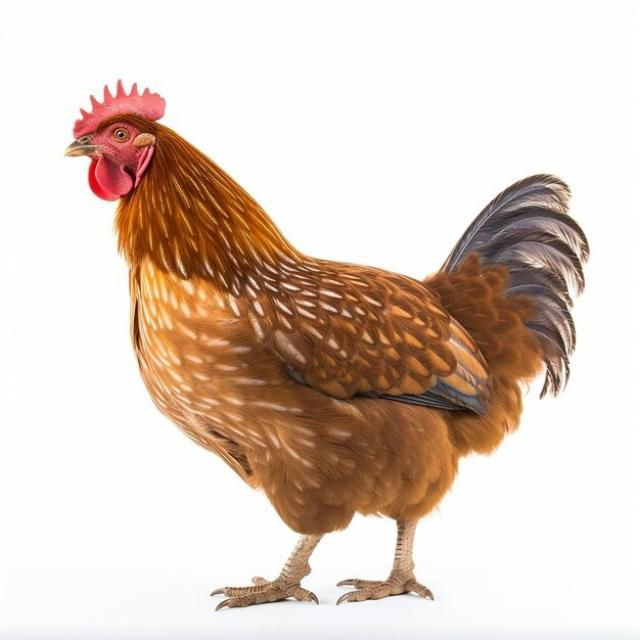Chicken: (63, 79, 590, 614)
